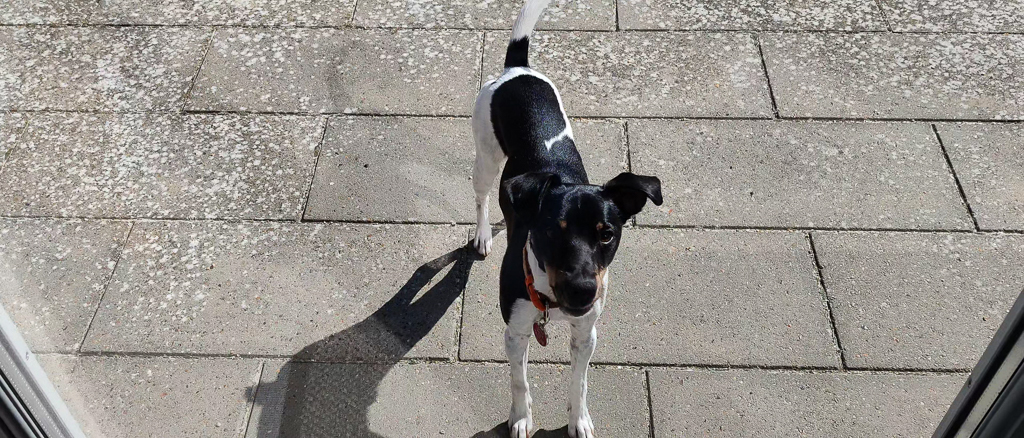Dog: (456, 0, 675, 438)
